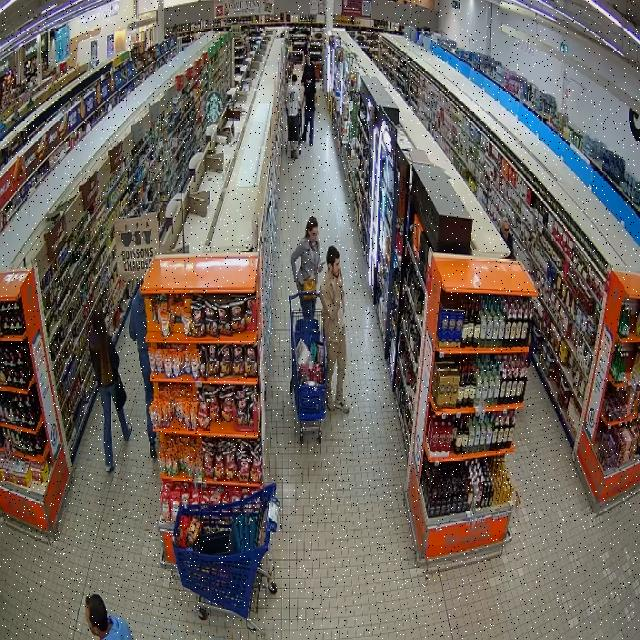bags: (303, 279, 315, 291)
hands: (336, 277, 342, 289)
person: (89, 306, 131, 471), (320, 246, 349, 412), (129, 291, 155, 458), (291, 217, 323, 292), (85, 596, 133, 639)
